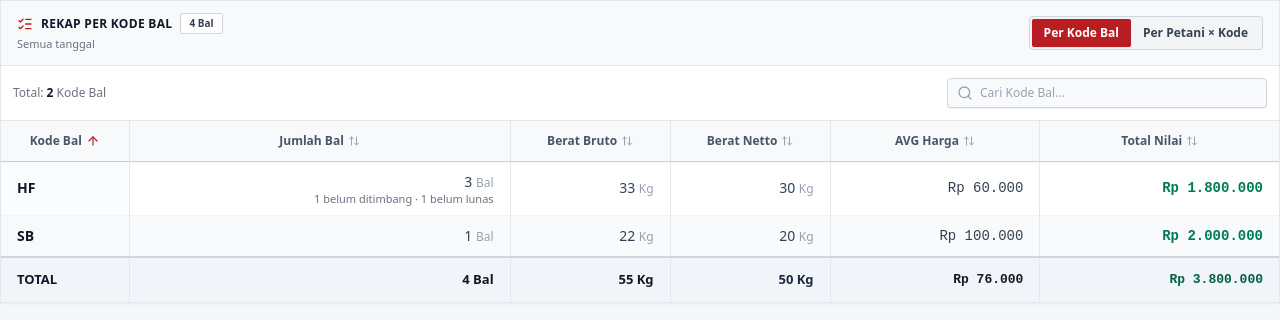
it: Rekap per Kode Bal: tampilan besar seperti Laporan Kode Bal yang lama › kolom bisa diurutkan dan kode bisa dicari
Click the column heading "Total Nilai". click: x=1159, y=141
box: [1040, 120, 1279, 161]
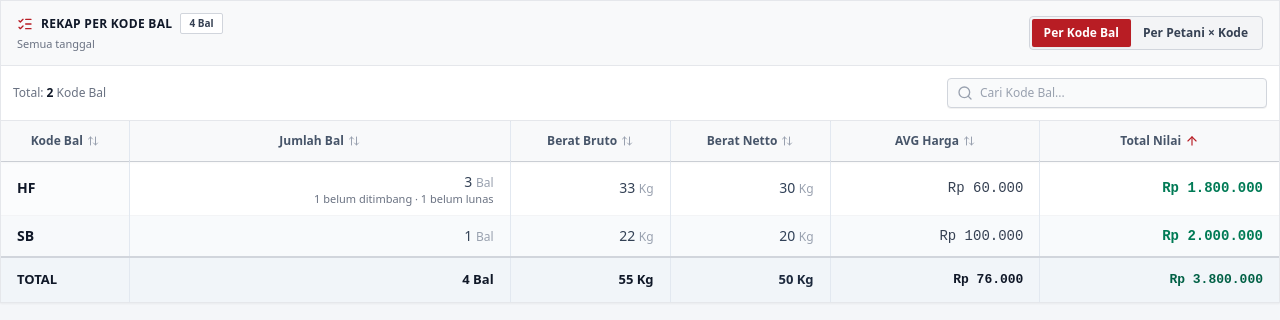
Click the column heading "Total Nilai". click: x=1159, y=141
box: [1040, 120, 1279, 161]
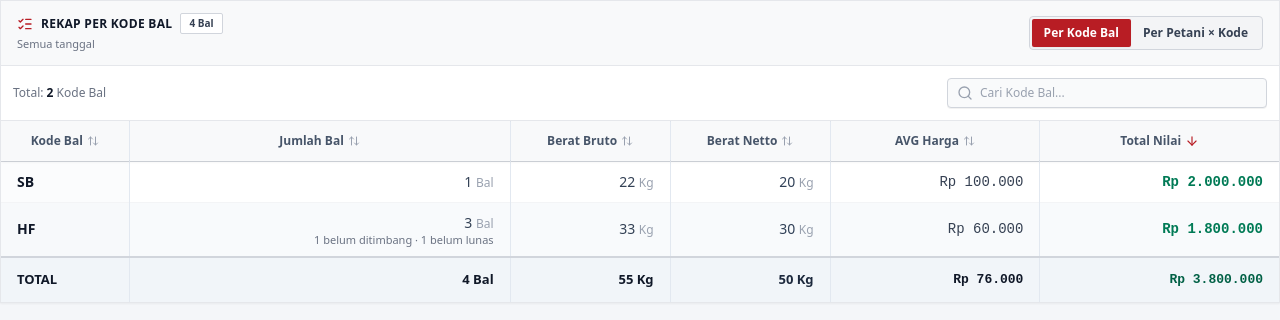
Type "sb" into the field with placeholder "Cari Kode Bal...". click: x=1107, y=92
box: [947, 78, 1267, 108]
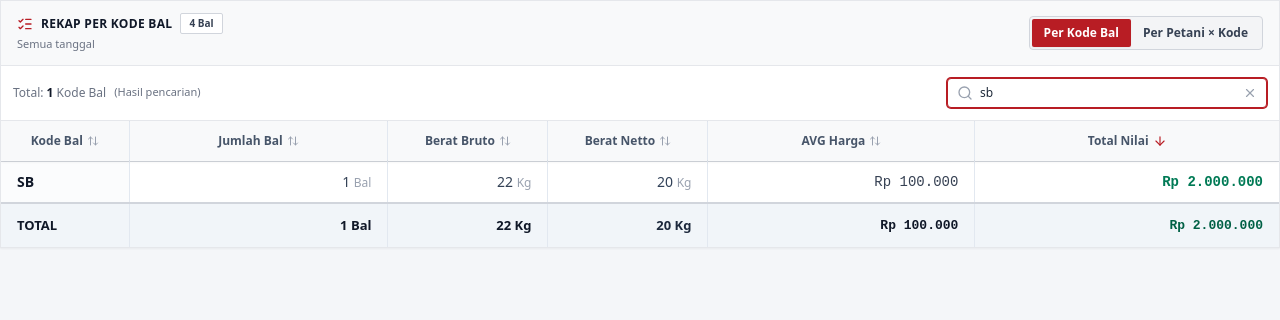
Expected: the text "(Hasil pencarian)" is shown, [114, 85, 200, 100]
